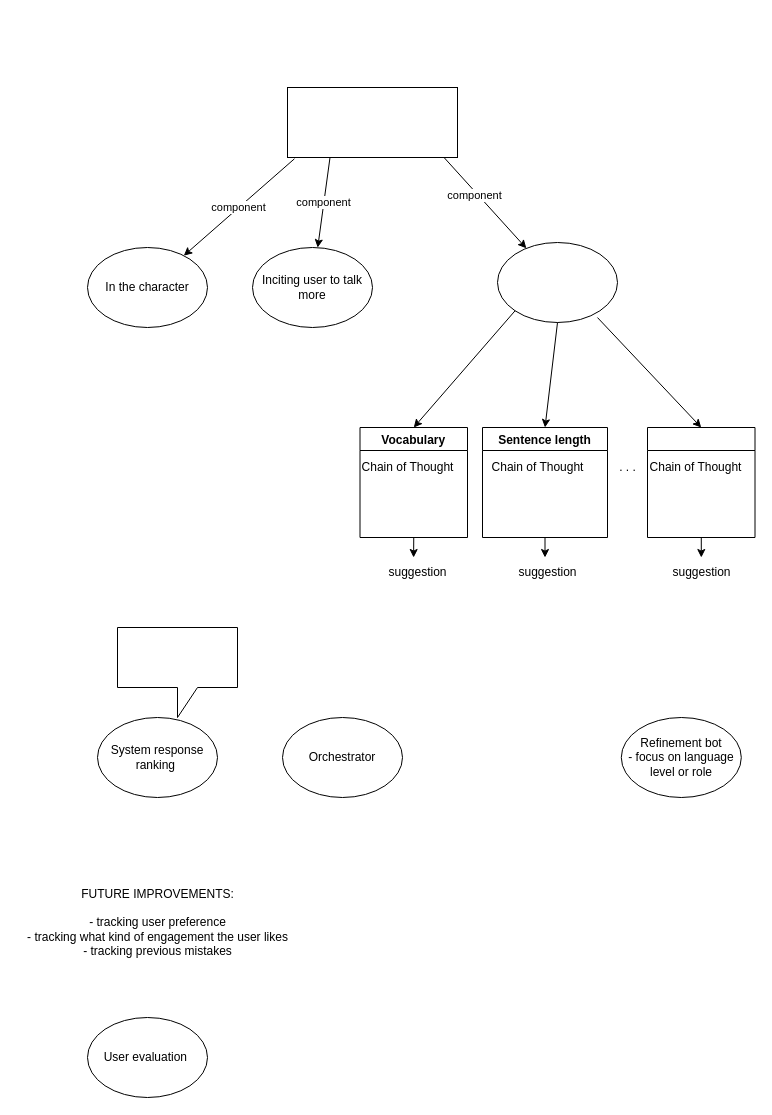
The diagram is 772 pixels wide and 1115 high, and some of its shapes have lost their labels. The shapes that lost their labels are listed below. From the top down, each one's box as (x1, y1, x2, y2) in pixels, then its label:
(286, 86, 458, 158): Language learning dialogue bot components
(496, 242, 618, 322): Using appropriate language proficiency leve
(116, 626, 238, 718): It needs to evaluate all components in order to rank the responses
